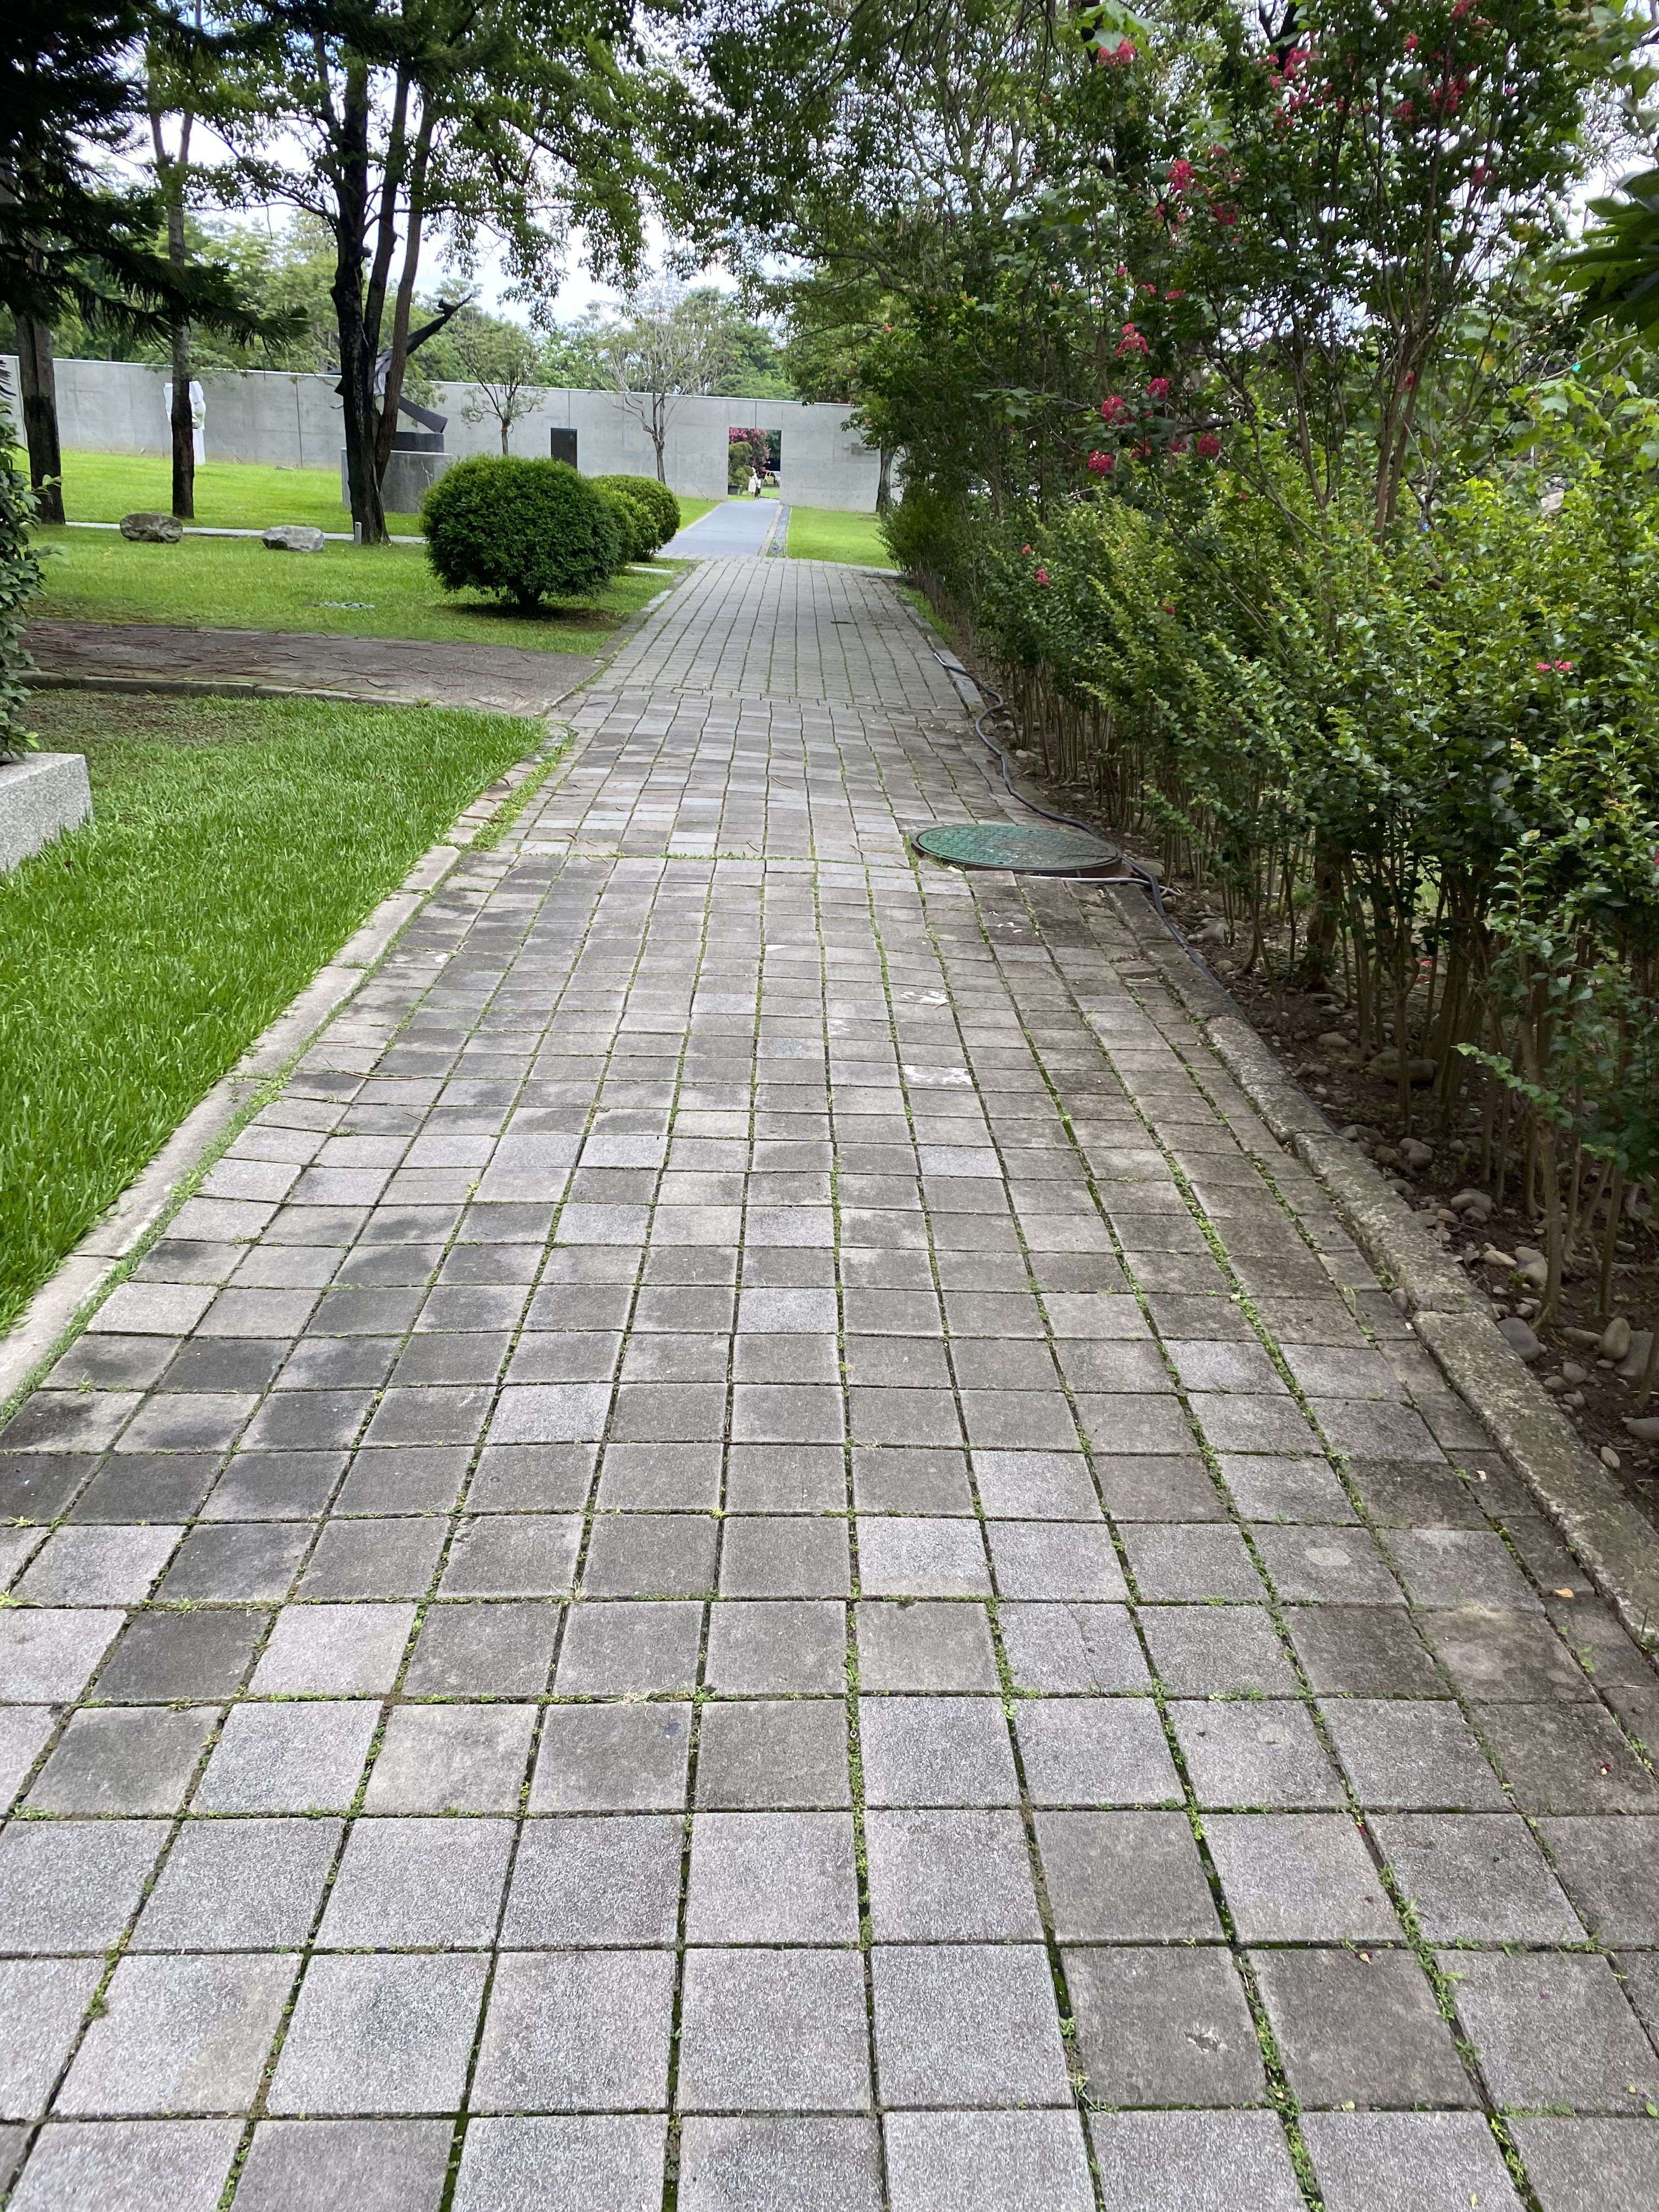0: (3, 629, 697, 2212)
sidewalk: (633, 559, 1656, 2212)
